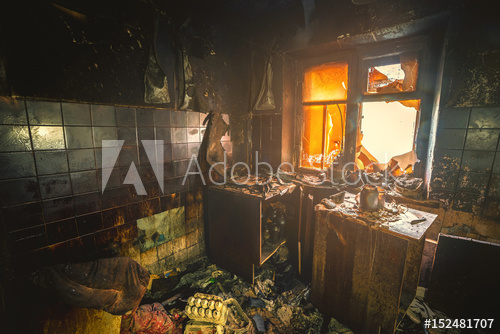Fire: (300, 67, 343, 160), (364, 86, 415, 155)
